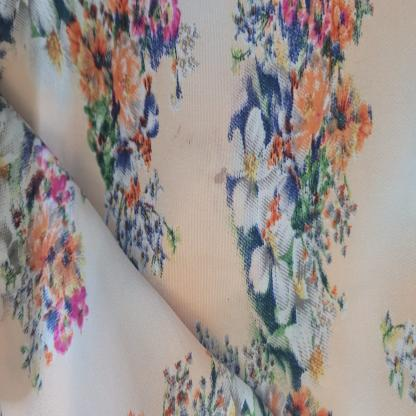spot: (209, 157, 238, 191), (173, 121, 188, 156)
